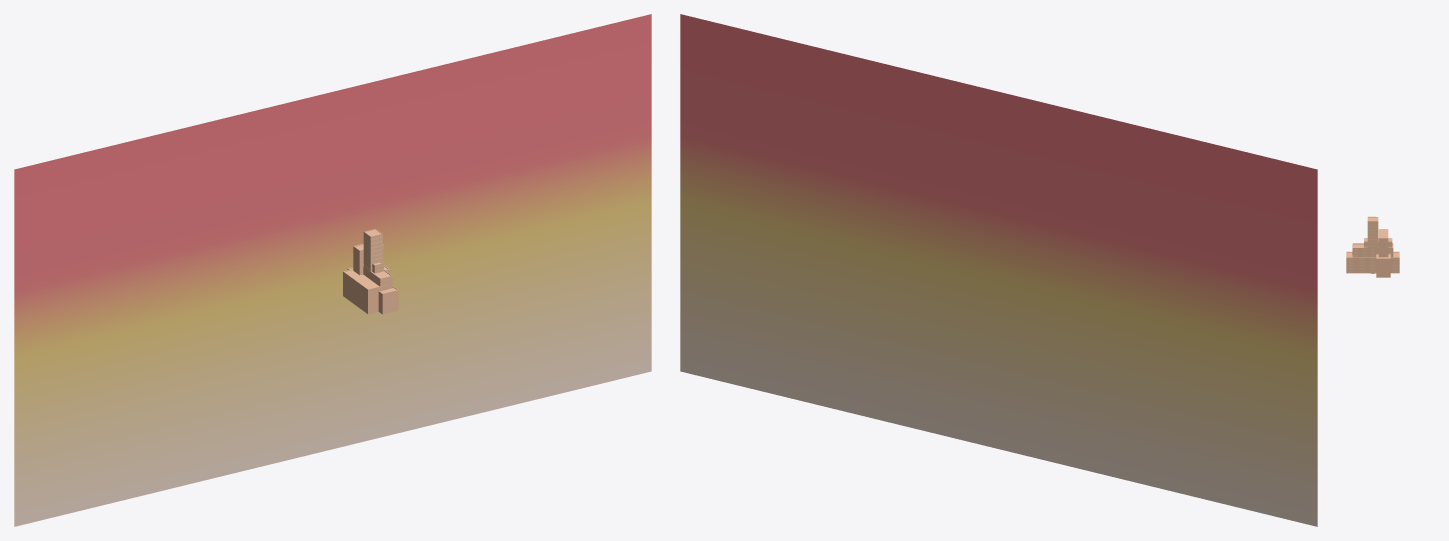
The model's file is All_models.fbx.
The picture shows the model from 3 angles, left to right: view 1: azimuth 30°, elevation 25°; view 2: azimuth 150°, elevation 25°; view 3: azimuth 270°, elevation 25°; orthographic projection. The views are drawn at different scales.
Visible parts, largest first — view 1: Background, Building_6, Building_5; view 2: Background; view 3: Building_5, Building_6, Building_3.
Boxes of the visible parts, x1,y1,x2,y2 form: Background: (14,14,651,526); Building_6: (343,244,389,314); Building_5: (347,261,398,314); Background: (680,14,1317,526); Building_5: (1346,238,1399,273); Building_6: (1352,229,1390,277); Building_3: (1367,216,1378,247).
Bounding box in the file's own units: 20738 × 11111 × 3241.
